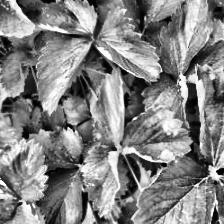Powdery Mildew Leaf: (125, 154, 216, 224), (121, 106, 194, 164), (195, 63, 224, 170), (139, 72, 191, 131), (90, 66, 126, 150), (0, 0, 36, 38)
